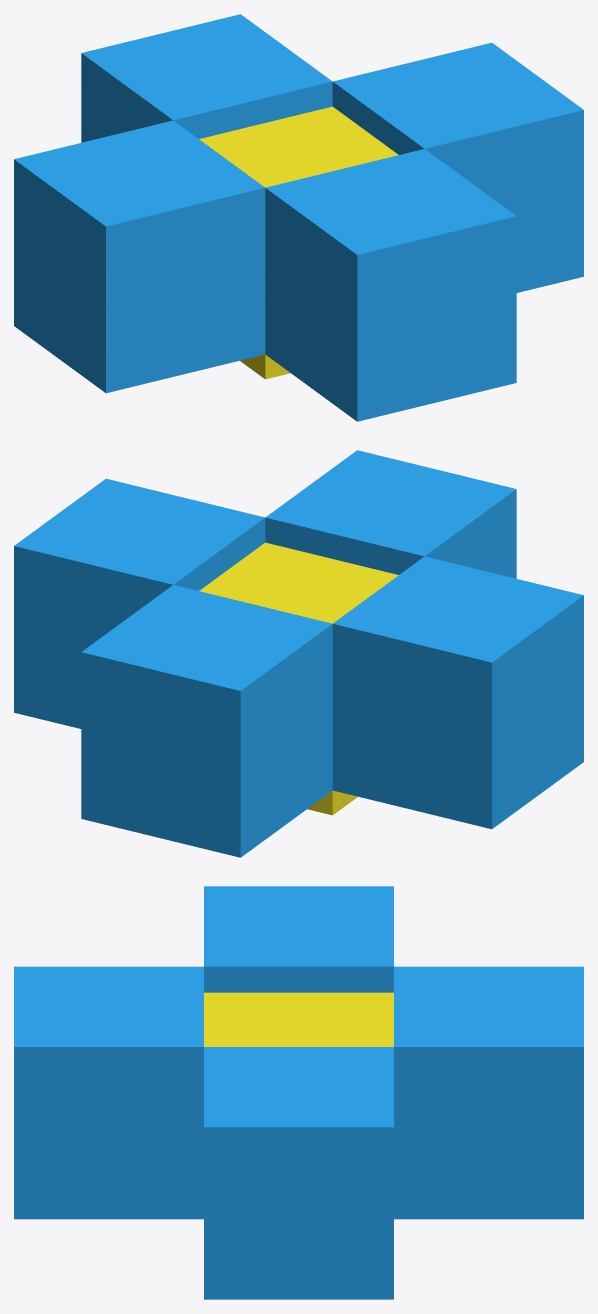
File: blueRay.gltf
3 views of the same model, one above another, from view 1: azimuth 30°, elevation 25°; view 2: azimuth 150°, elevation 25°; view 3: azimuth 270°, elevation 25° (orthographic). The views are drawn at different scales.
Parts seen in each view (by area): view 1: flower-Local, in-Local; view 2: flower-Local, in-Local; view 3: flower-Local, in-Local.
Boxes of the visible parts, left/top/right/bottom form: flower-Local: left=14, top=14, right=583, bottom=421; in-Local: left=199, top=106, right=398, bottom=379; flower-Local: left=14, top=450, right=583, bottom=857; in-Local: left=199, top=542, right=398, bottom=815; flower-Local: left=14, top=886, right=583, bottom=1299; in-Local: left=204, top=992, right=393, bottom=1046.
Size of the model in its own units: 3 by 1.15 by 3.
2 materials, 2 textured.
